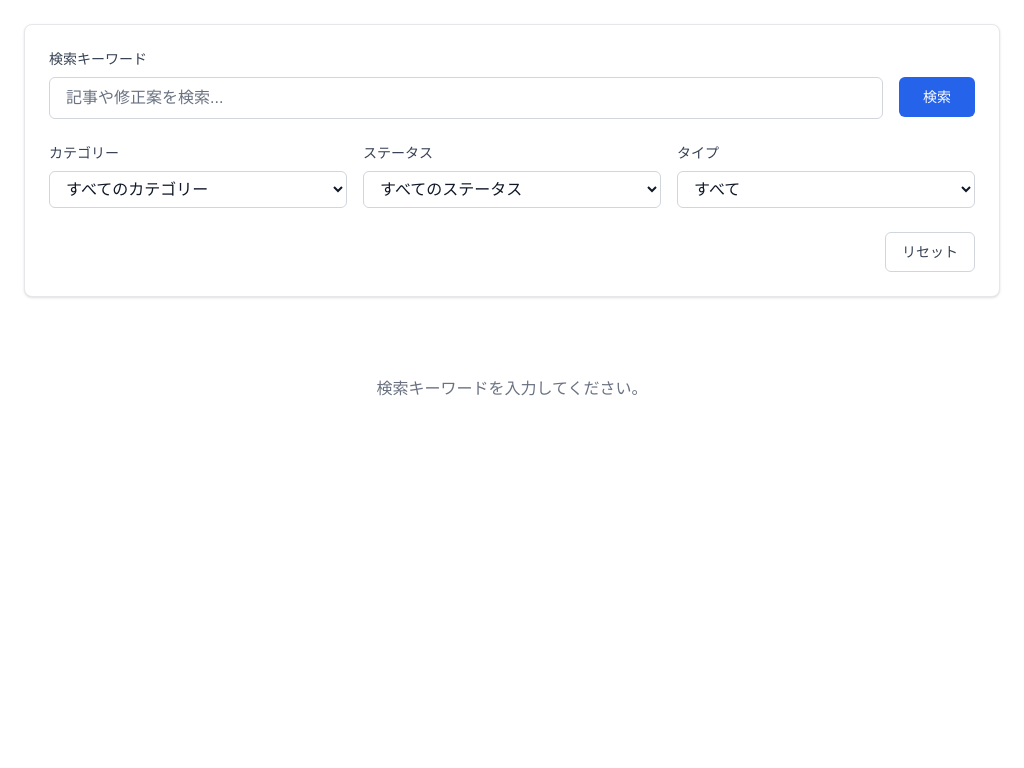
Test: SearchAndFilter › allows retrying after search error
This screenshot has width=1024, height=768.
Type "テスト" into the search field labelled "検索キーワード".
click(466, 98); type("テスト")  # box [49,77,883,119]
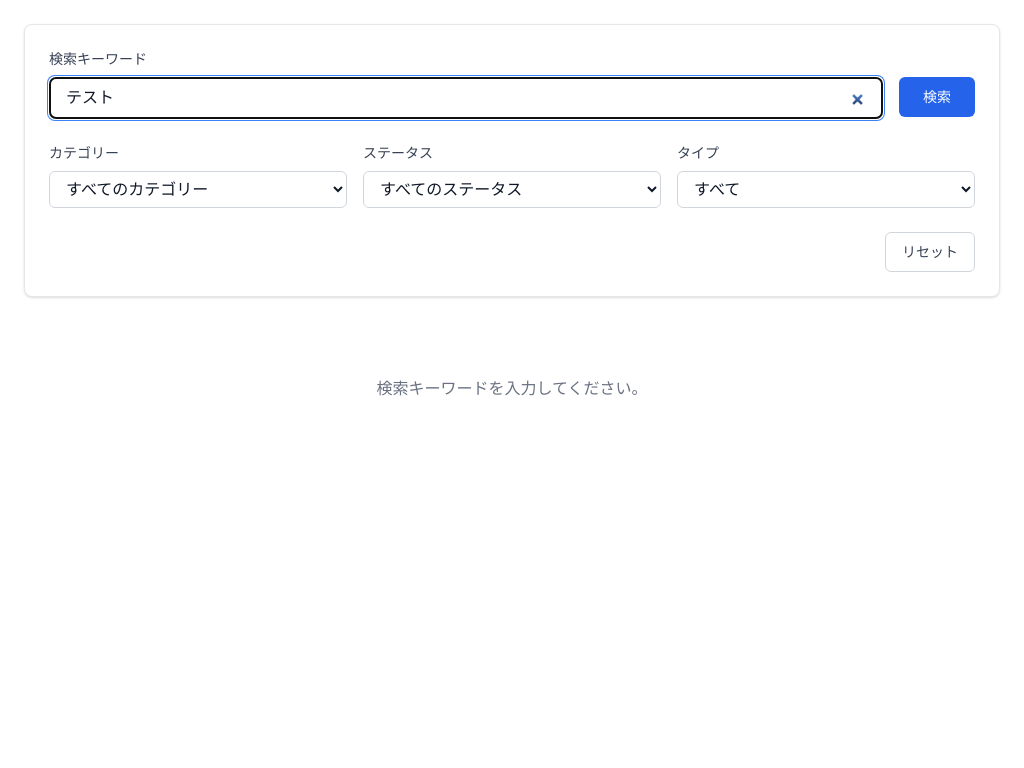
Click the button "検索".
click(937, 97)  # box [899,77,975,117]
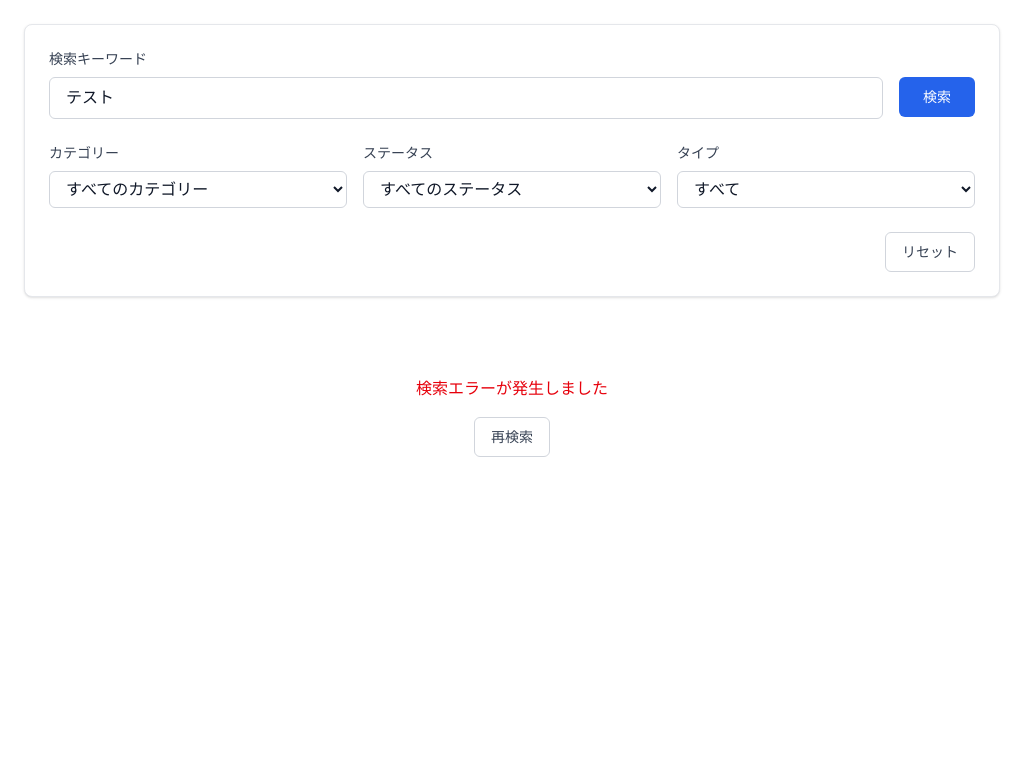
Check: the text "検索エラーが発生しました" is shown, box [416,380,608,397]
Click the button "再検索".
click(512, 437)  # box [474,417,550,457]
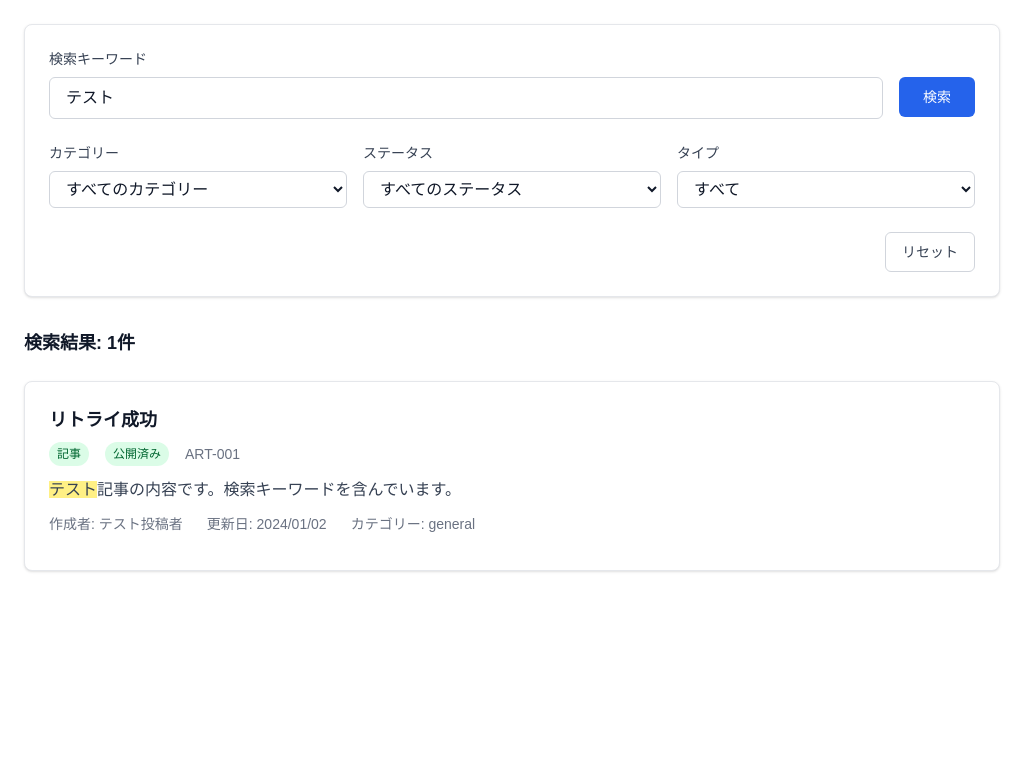
Check: the heading "リトライ成功" is shown, box [49,410,157,430]
